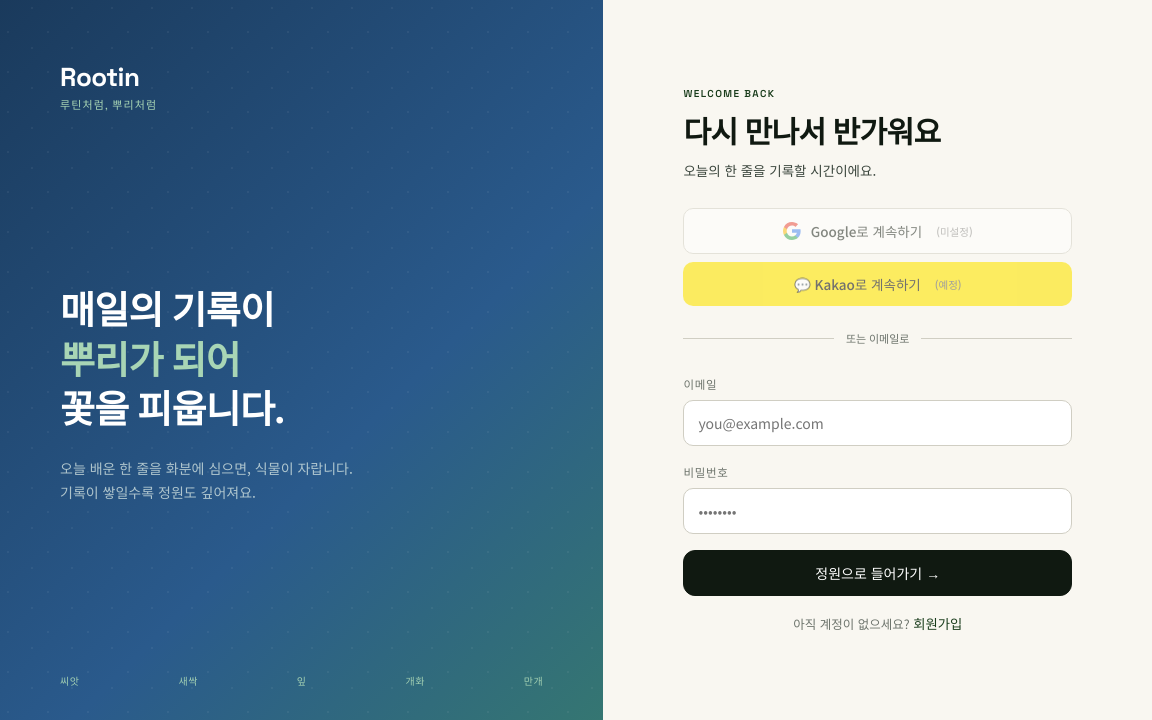
Scenario: 초기 렌더링 › 회원가입으로 전환하면 닉네임 입력란이 나타난다
Click the button "회원가입".
click(938, 624)  # box [913,614,962,633]
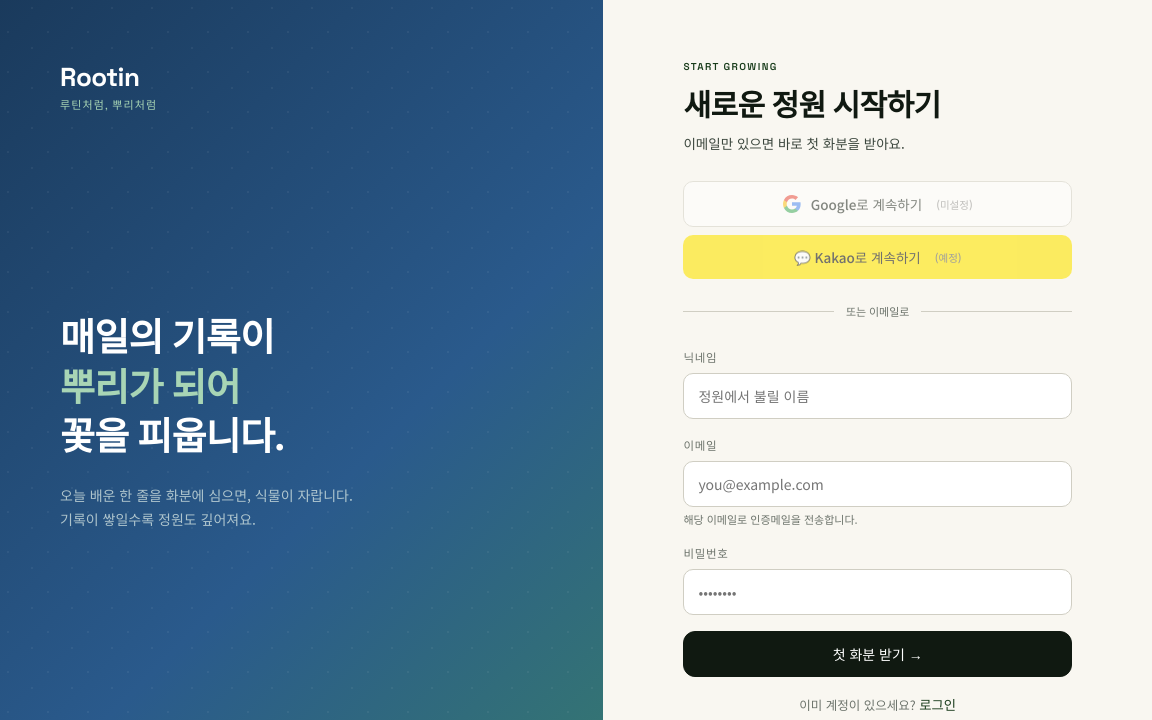
Check: the field with placeholder "정원에서 불릴 이름" is shown, box [683,373,1072,419]
